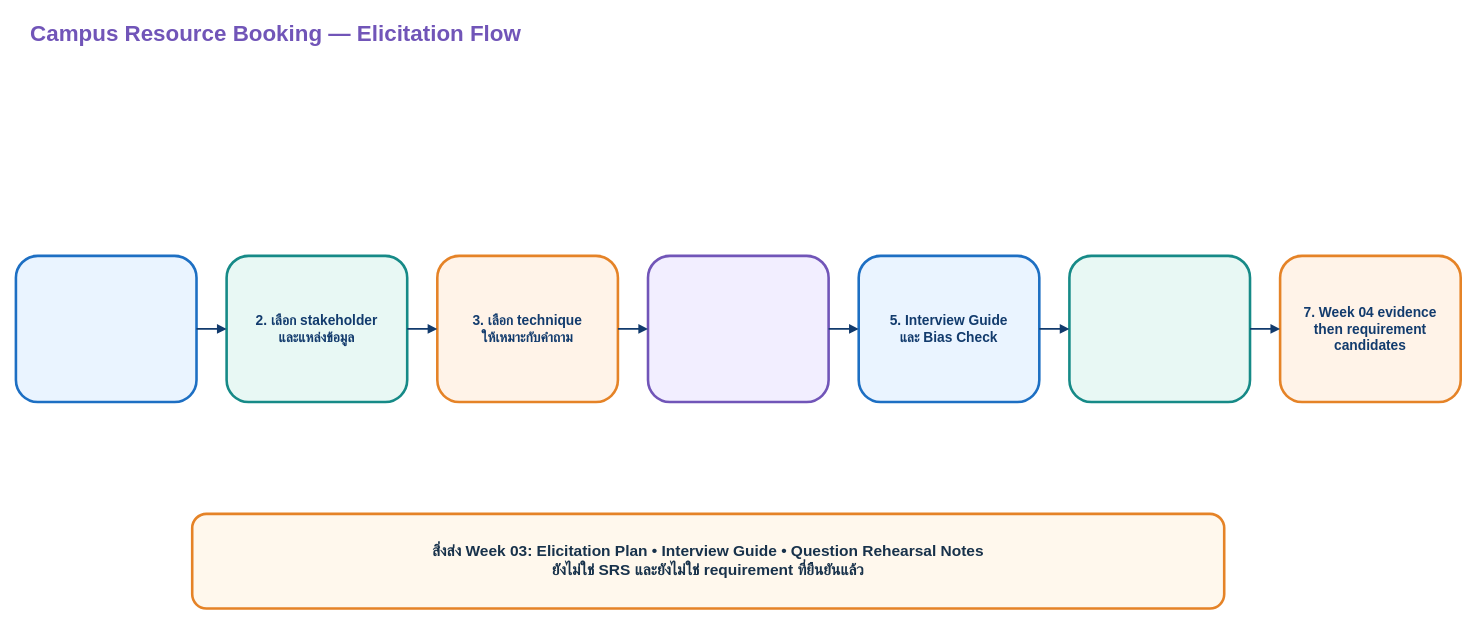
This 1477x624 diagram has some shape labels left out. Each missing label, with the centre of its shape:
"1. Open Questions จาก Week 02" belongs at (x=105, y=328).
"4. Elicitation Plan Who / Method / Evidence" belongs at (x=737, y=328).
"6. Question Rehearsal ปรับคำถาม" belongs at (x=1159, y=328).
